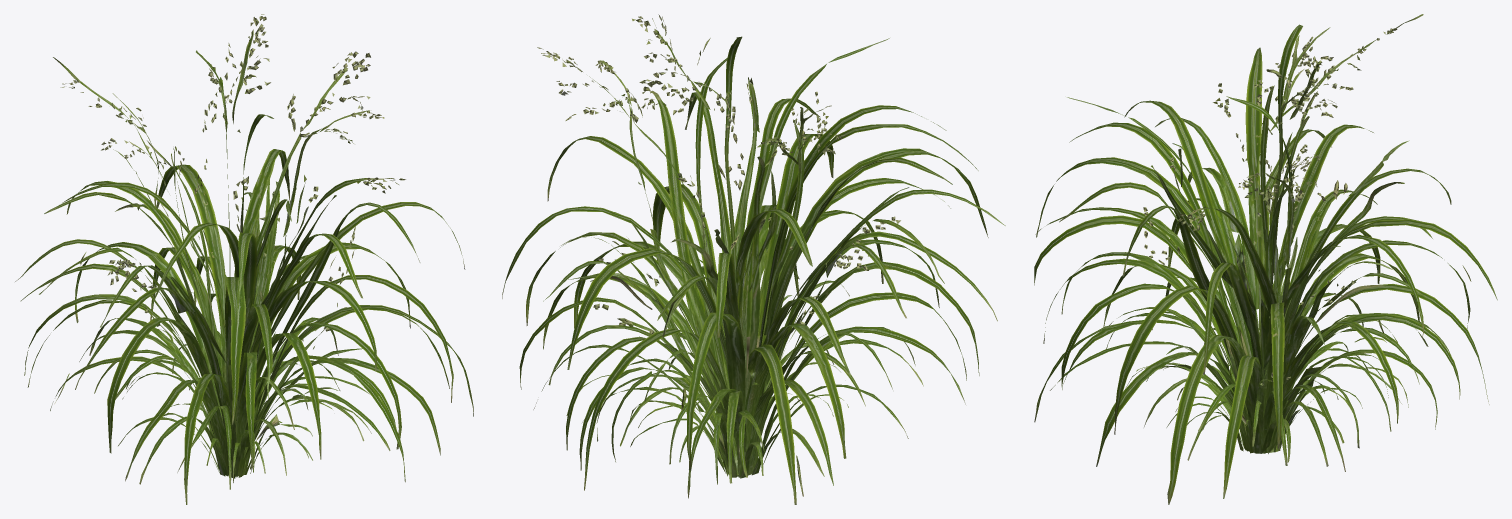
Rendered from emerald_fountain_grass.glb.
3 renders of one model, left to right at view 1: azimuth 30°, elevation 25°; view 2: azimuth 150°, elevation 25°; view 3: azimuth 270°, elevation 25°, orthographic. The views are drawn at different scales.
Bounding box in the file's own units: 1 × 1 × 0.9961.
Materials: 1 (1 with a texture image).
